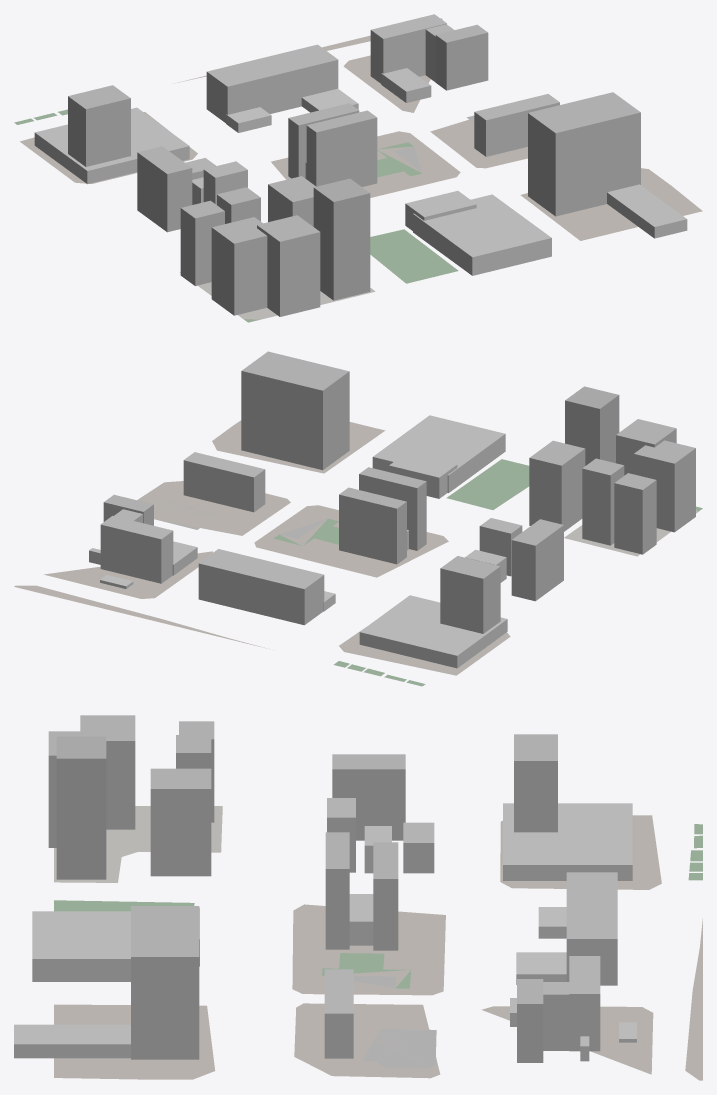
Rendered from 119_85_mid.glb.
3 renders of one model, top to bottom at view 1: azimuth 30°, elevation 25°; view 2: azimuth 150°, elevation 25°; view 3: azimuth 270°, elevation 25°, orthographic. The views are drawn at different scales.
Bounding box in the file's own units: 504 × 104 × 531.
